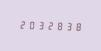eight: (71, 20, 79, 32), (53, 20, 61, 31)
three: (35, 19, 43, 30), (62, 20, 70, 31)
two: (17, 18, 25, 30), (44, 19, 52, 31)
zero: (26, 19, 34, 30)
